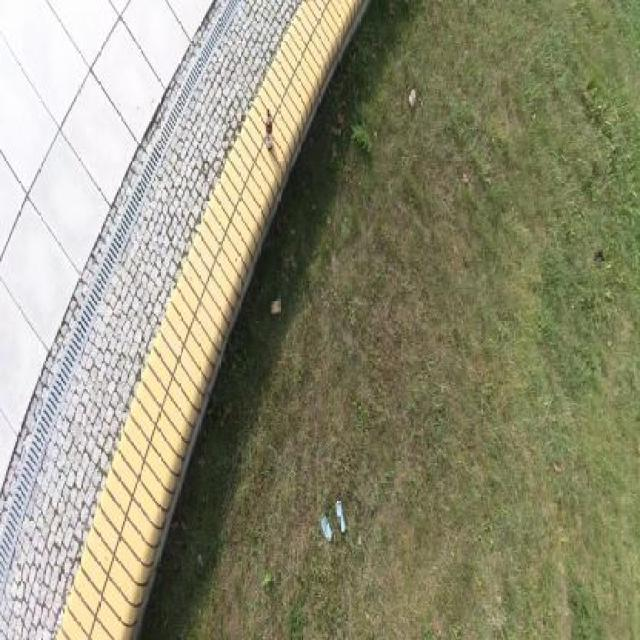Garbage: (318, 513, 334, 541), (335, 498, 345, 530), (265, 109, 272, 148), (408, 90, 416, 111)
